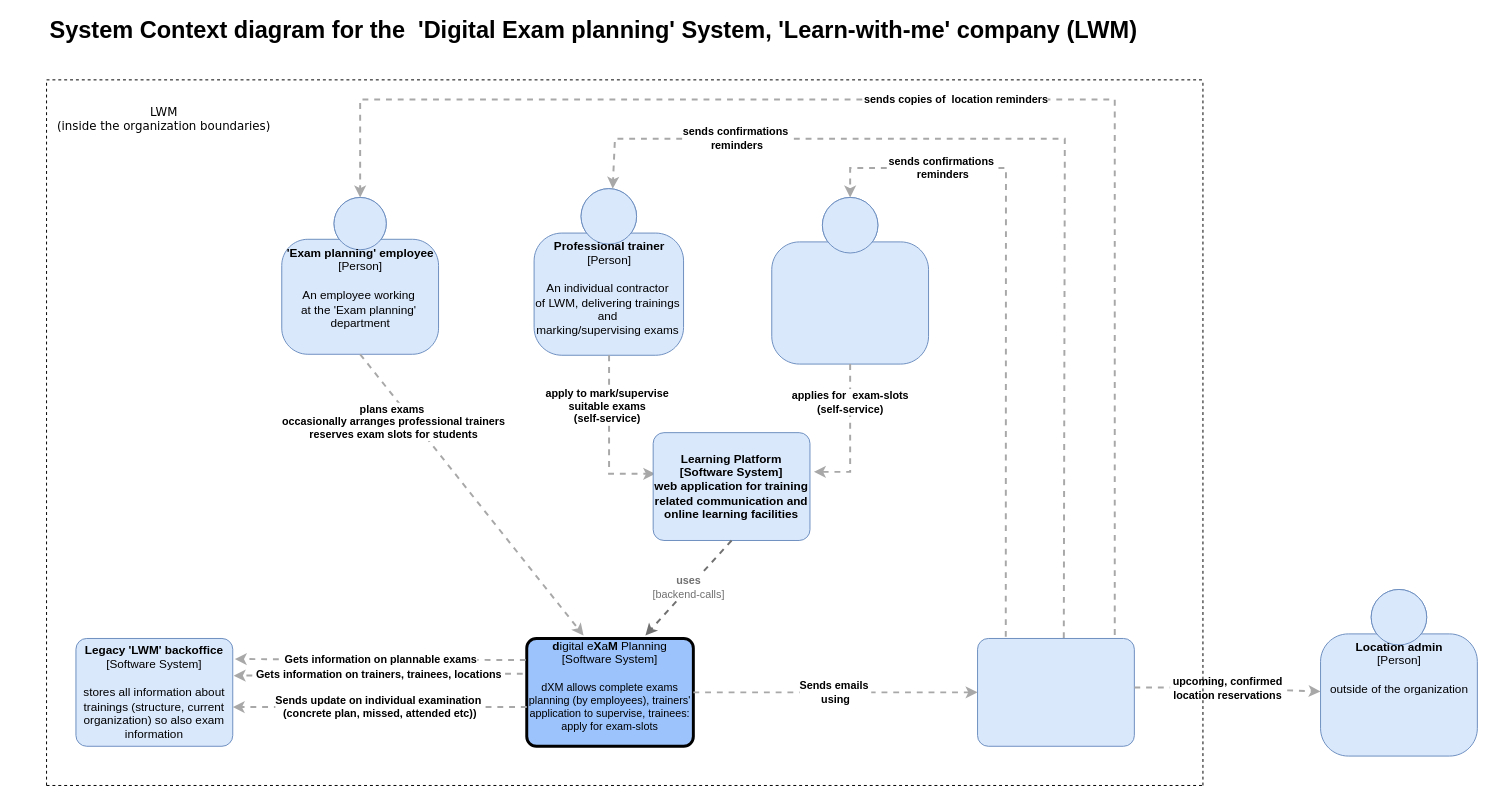
This 1495x804 diagram has some shape labels left out. Here are the shapes that lost their labels. From the top down, the centre of each, then its label:
At pixel 850 280: "Trainee [Person] A client of LWM, attending trainnings and examinations".
At pixel 1055 691: "e-mail System [Software System] the internal Exchange system".
